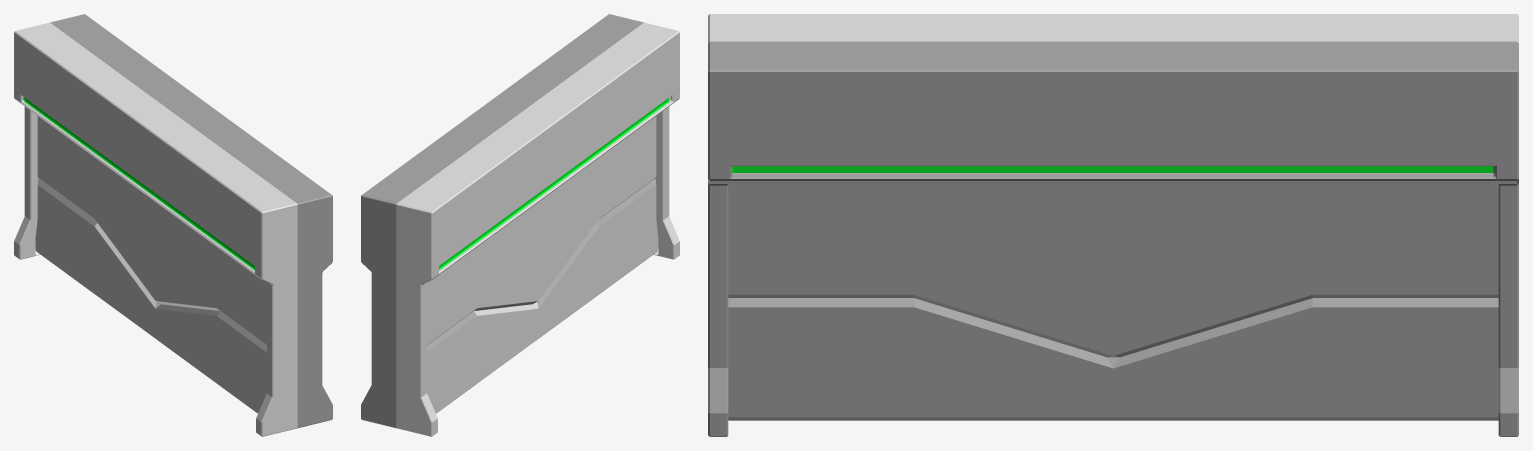
Rendered from PorteUsine.fbx.
3 views of the same model, side by side, from view 1: azimuth 30°, elevation 25°; view 2: azimuth 150°, elevation 25°; view 3: azimuth 270°, elevation 25° (orthographic). The views are drawn at different scales.
Visible parts, largest first — view 1: PorteUsine, PorteTop, PorteBottom; view 2: PorteUsine, PorteTop, PorteBottom; view 3: PorteUsine, PorteTop, PorteBottom.
Part boxes in pixels (box(x1,y1,x2,y2)): PorteUsine: box(14, 14, 332, 436); PorteTop: box(37, 116, 266, 344); PorteBottom: box(35, 179, 266, 413); PorteUsine: box(361, 14, 679, 436); PorteTop: box(427, 116, 656, 344); PorteBottom: box(427, 179, 658, 413); PorteUsine: box(708, 14, 1518, 436); PorteTop: box(728, 184, 1498, 357); PorteBottom: box(728, 298, 1498, 420).
Size of the model in its own units: 200 by 600 by 1200.
